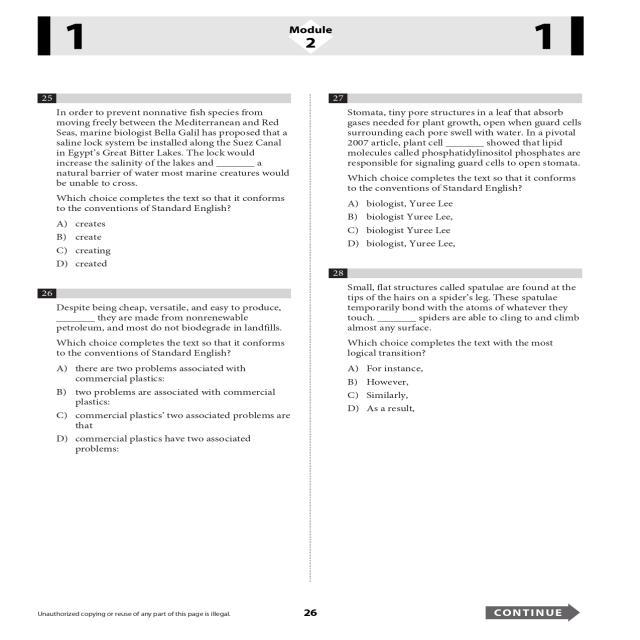Answer_Block: (316, 363, 592, 581), (30, 363, 302, 580), (316, 192, 592, 252), (30, 217, 302, 273)
Question_Answer_Block: (316, 266, 592, 582), (30, 288, 302, 580), (30, 88, 302, 273), (316, 88, 592, 252)
Question_Block: (30, 88, 302, 217), (316, 88, 592, 194), (316, 266, 592, 364), (30, 288, 302, 361)
Question_Paper_Area: (316, 88, 592, 581), (30, 88, 302, 580)
